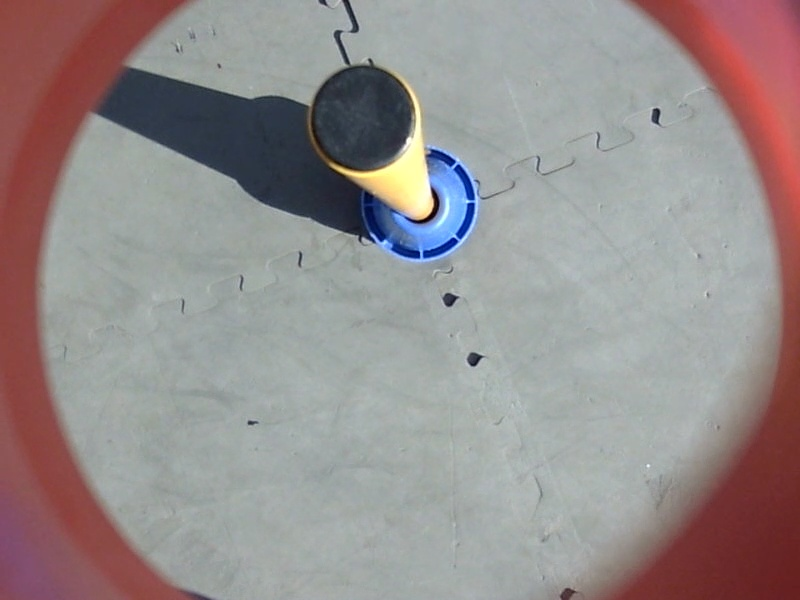tip: (301, 61, 427, 178)
